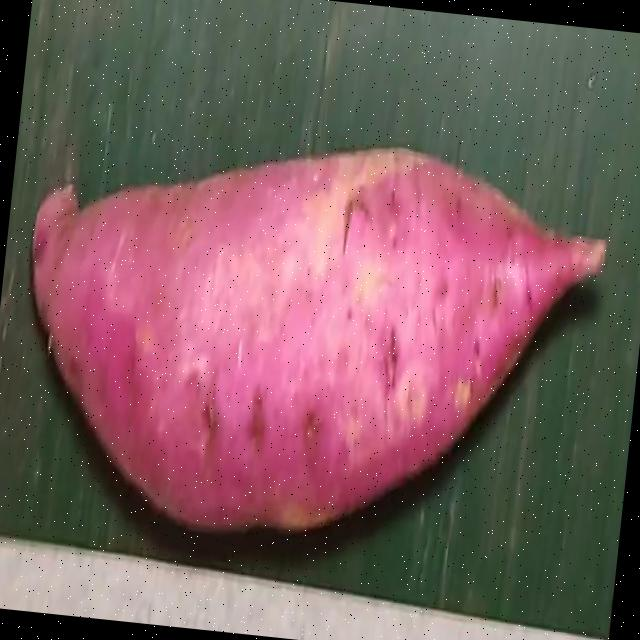Sweet Potato: (31, 145, 610, 535)
